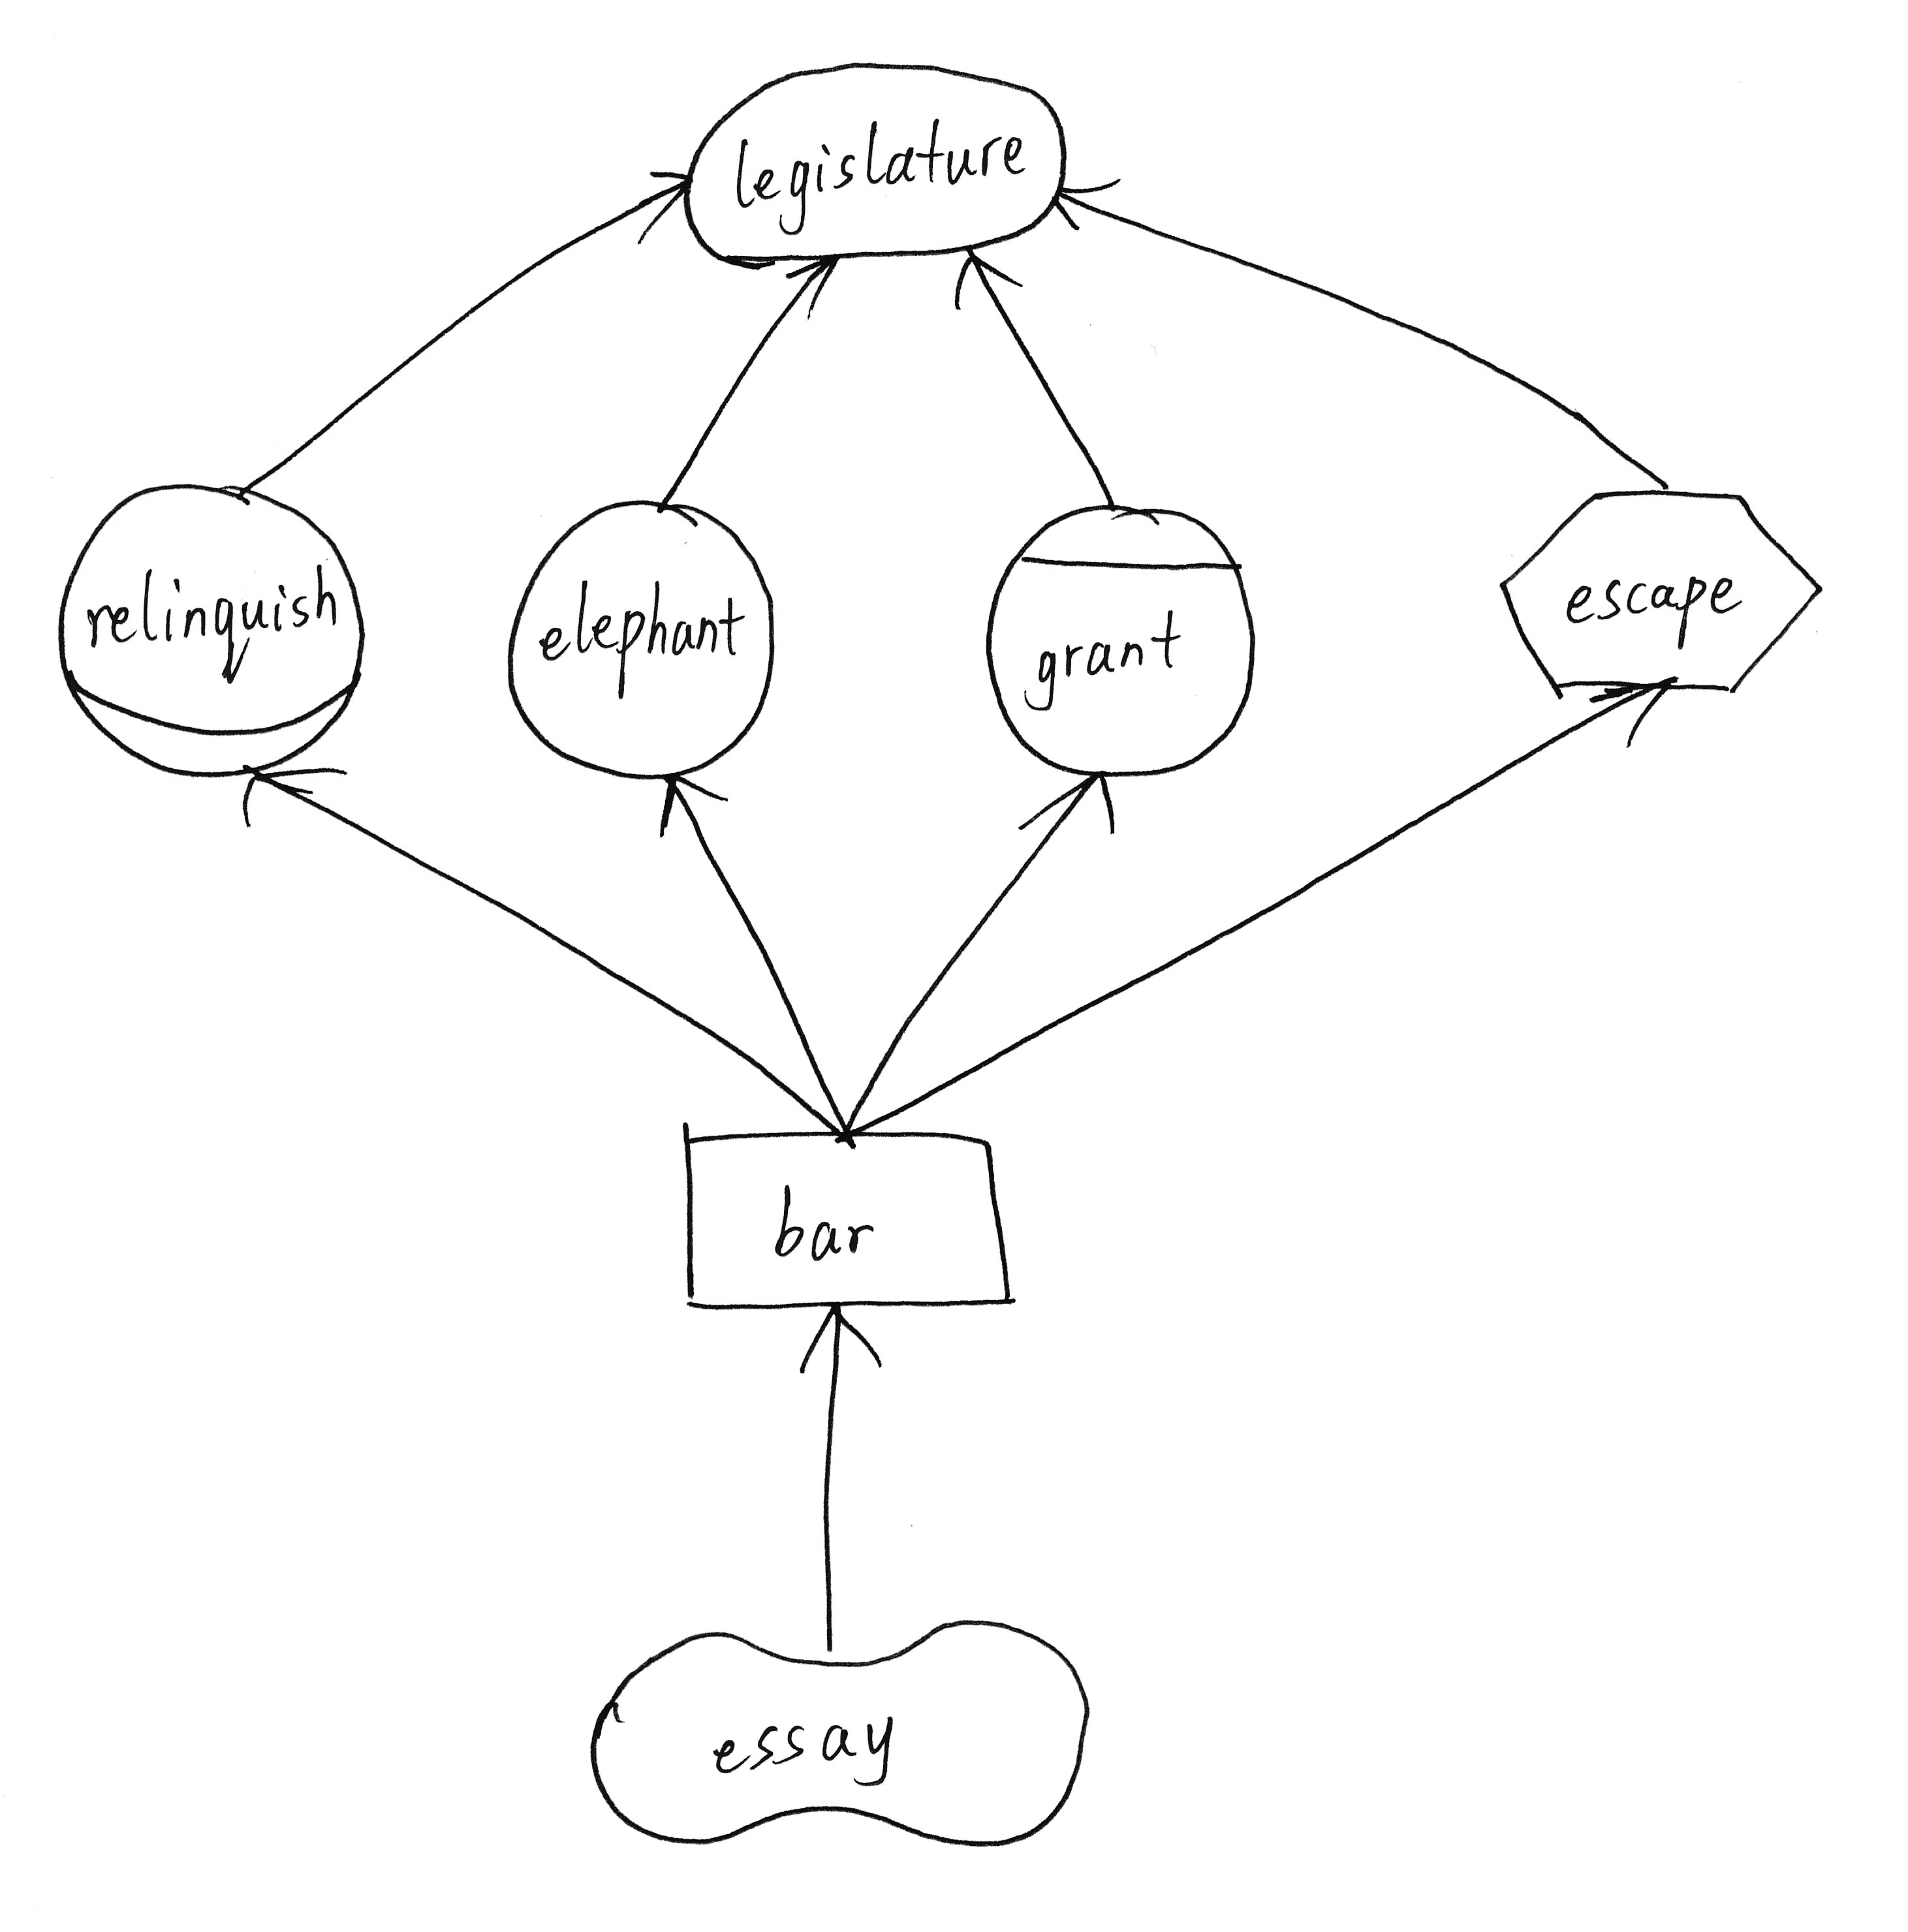actor: (491, 484, 792, 795)
agent: (973, 482, 1272, 790)
arrow: (1010, 758, 1136, 847), (790, 1291, 895, 1394), (224, 751, 362, 826), (638, 758, 737, 849), (1585, 667, 1693, 744), (945, 239, 1029, 325), (1043, 171, 1137, 241), (636, 155, 708, 243), (781, 243, 851, 321)
goal: (667, 44, 1082, 279)
quality: (571, 1609, 1106, 1862)
resource: (657, 1097, 1034, 1333)
role: (42, 466, 388, 802)
task: (1487, 472, 1845, 716)
